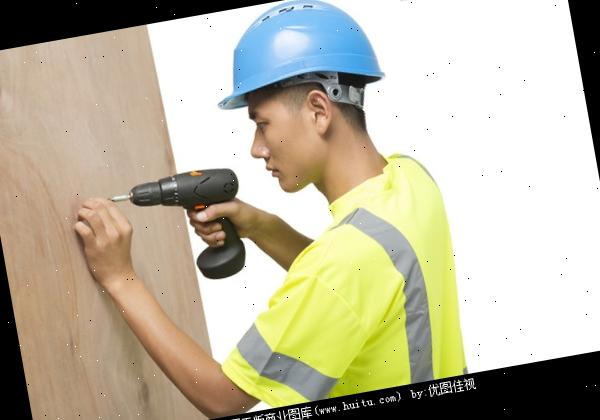helmet: (196, 0, 389, 110)
